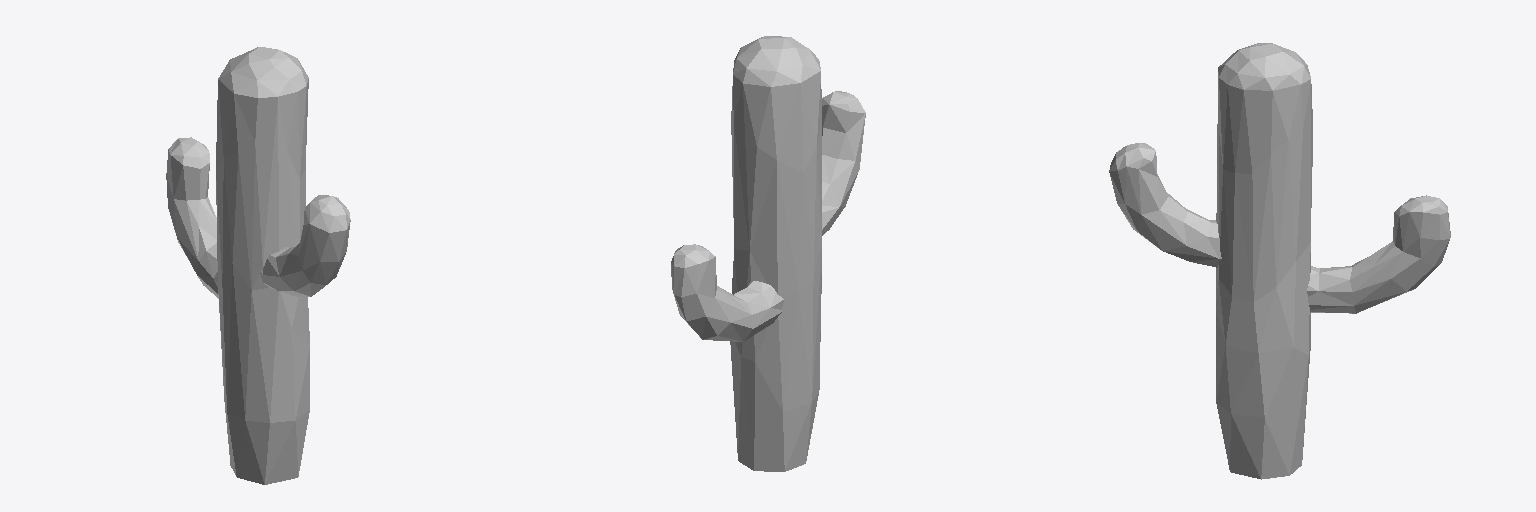
The model's file is Cactus04.obj.
3 views of the same model, side by side, from view 1: azimuth 30°, elevation 25°; view 2: azimuth 150°, elevation 25°; view 3: azimuth 270°, elevation 25° (orthographic).
Visible parts, largest first — view 1: Cylinder, Cylinder.002, Cylinder.001; view 2: Cylinder, Cylinder.002, Cylinder.001; view 3: Cylinder, Cylinder.002, Cylinder.001.
Boxes of the visible parts, x1,y1,x2,y2 form: Cylinder: [216, 47, 309, 484]; Cylinder.002: [166, 137, 218, 298]; Cylinder.001: [260, 195, 350, 296]; Cylinder: [730, 36, 821, 471]; Cylinder.002: [671, 244, 783, 341]; Cylinder.001: [822, 91, 865, 235]; Cylinder: [1216, 43, 1312, 479]; Cylinder.002: [1307, 195, 1450, 313]; Cylinder.001: [1109, 143, 1221, 267].
Bounding box in the file's own units: 0.6104 × 2.99 × 2.23.